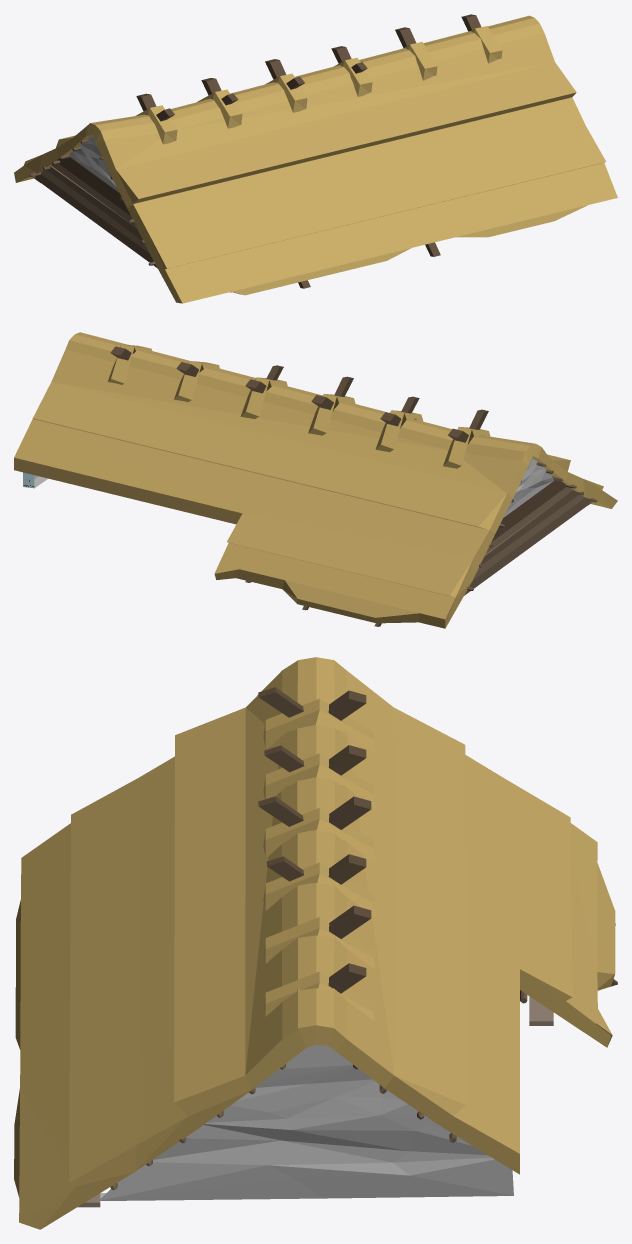
Rendered from EA03_Village_Hut_Roof_Cut_01a.glb.
3 renders of one model, top to bottom at view 1: azimuth 30°, elevation 25°; view 2: azimuth 150°, elevation 25°; view 3: azimuth 270°, elevation 25°, orthographic. The views are drawn at different scales.
Parts seen in each view (by area): view 1: EA03_Village_Hut_Roof_Cut_01a; view 2: EA03_Village_Hut_Roof_Cut_01a; view 3: EA03_Village_Hut_Roof_Cut_01a.
Boxes of the visible parts, bbox=[...] form: EA03_Village_Hut_Roof_Cut_01a: bbox=[14, 14, 617, 303]; EA03_Village_Hut_Roof_Cut_01a: bbox=[14, 332, 617, 628]; EA03_Village_Hut_Roof_Cut_01a: bbox=[14, 657, 617, 1229].
Bounding box in the file's own units: 16.53 × 5.05 × 11.3.
1 material, 1 textured.
